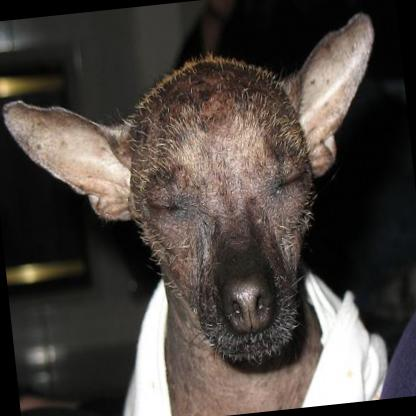Mexican_hairless: (0, 7, 410, 416)
